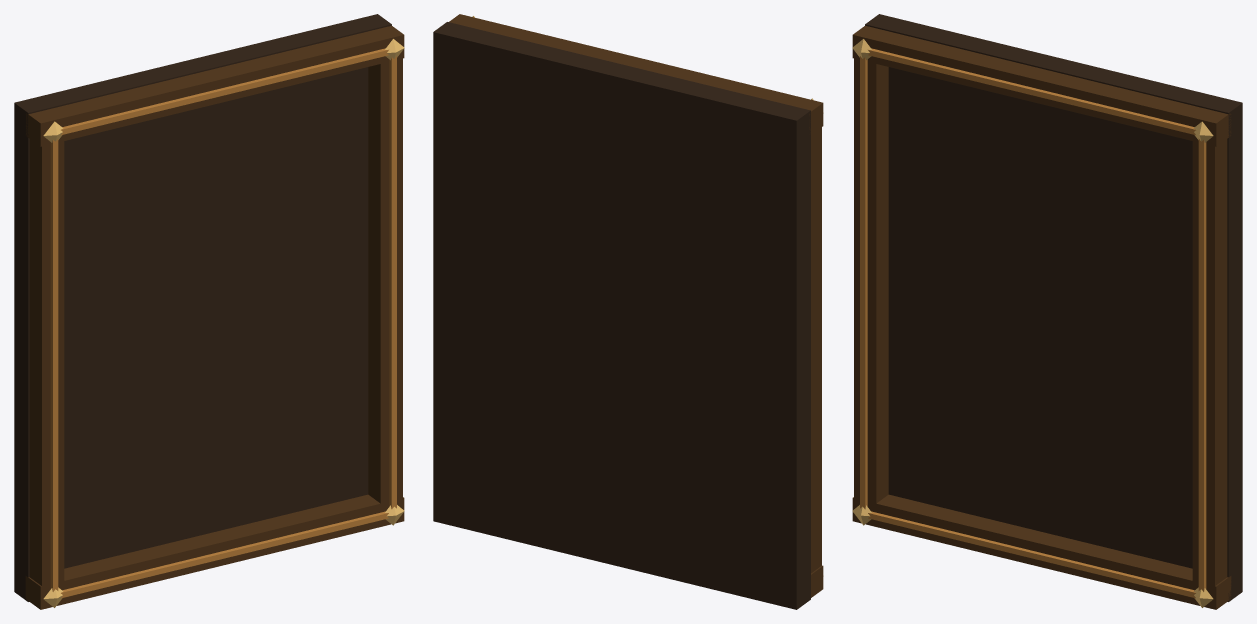
File: mia-wall_frame.glb
3 renders of one model, left to right at view 1: azimuth 30°, elevation 25°; view 2: azimuth 150°, elevation 25°; view 3: azimuth 330°, elevation 25°, orthographic.
Parts seen in each view (by area): view 1: Body_grain, Body_wood, Body_brass, Body_trim; view 2: Body_grain, Body_wood; view 3: Body_grain, Body_wood, Body_brass, Body_trim.
Part boxes in pixels (left/top/right/bottom): Body_grain: left=14, top=14, right=391, bottom=601; Body_wood: left=25, top=25, right=404, bottom=609; Body_brass: left=50, top=48, right=396, bottom=598; Body_trim: left=43, top=39, right=404, bottom=607; Body_grain: left=433, top=22, right=810, bottom=609; Body_wood: left=449, top=14, right=823, bottom=597; Body_grain: left=865, top=14, right=1242, bottom=601; Body_wood: left=852, top=25, right=1231, bottom=609; Body_brass: left=860, top=48, right=1206, bottom=598; Body_trim: left=852, top=39, right=1213, bottom=607.
Bounding box in the file's own units: 0.7 × 0.9 × 0.1023.
